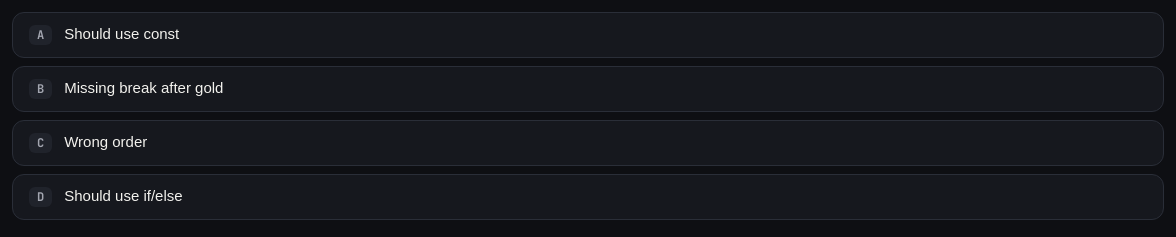
Mcq › disables all choices once committed
Step 1. Click the button "C Wrong order" → (106, 142), box [12,120,1164,166]
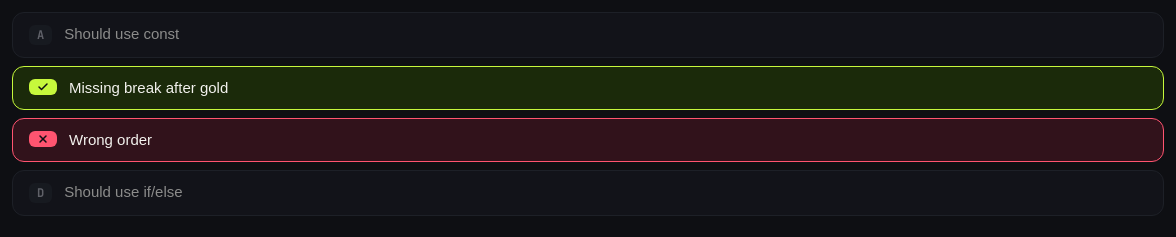
Expected: the button "A Should use const" is disabled, [12,12,1164,58]
Expected: the button "Missing break after gold" is disabled, [12,66,1164,110]
Expected: the button "Wrong order" is disabled, [12,118,1164,162]
